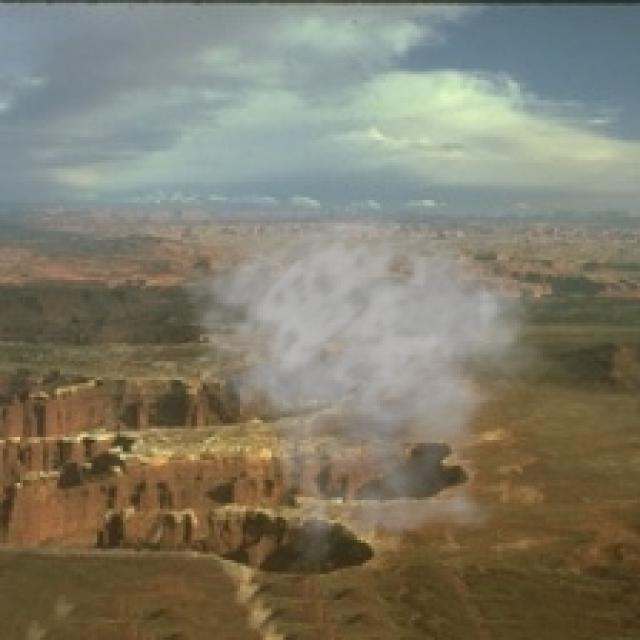Smoke: (180, 212, 563, 568)
